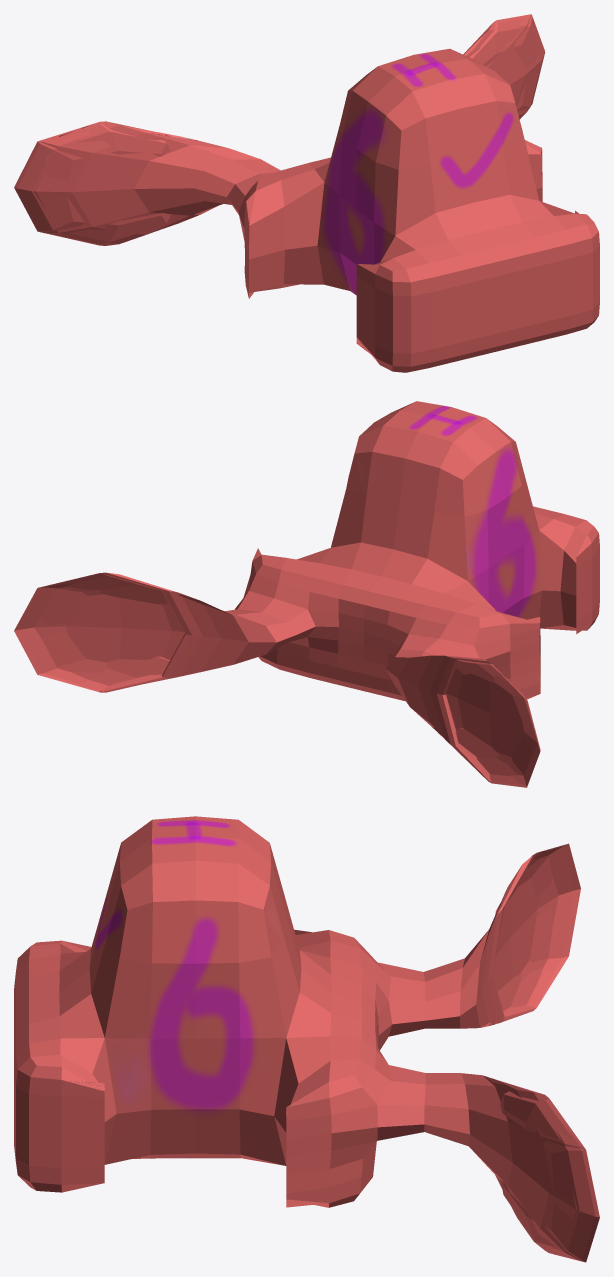
Rendered from car.glb.
3 renders of one model, top to bottom at view 1: azimuth 30°, elevation 25°; view 2: azimuth 150°, elevation 25°; view 3: azimuth 270°, elevation 25°, orthographic. The views are drawn at different scales.
Parts seen in each view (by area): view 1: 立方体.007; view 2: 立方体.007; view 3: 立方体.007.
Part boxes in pixels (left/top/right/bottom): 立方体.007: left=14, top=14, right=599, bottom=372; 立方体.007: left=14, top=401, right=599, bottom=787; 立方体.007: left=14, top=816, right=599, bottom=1262.
Size of the model in its own units: 0.7434 by 0.3202 by 0.5596.
1 material, 1 textured.
